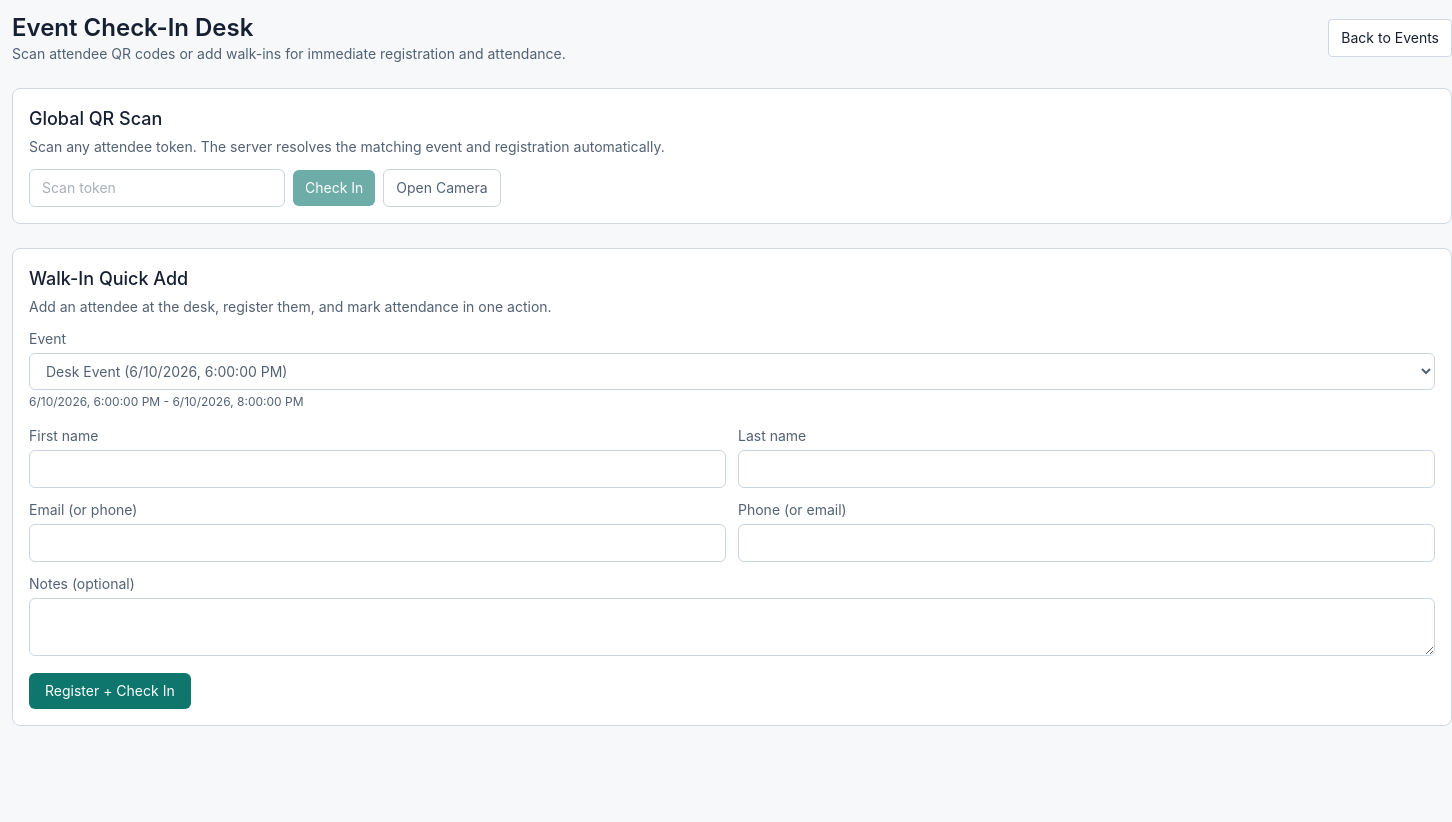
EventCheckInDeskPage › submits walk-in attendee
Expected: the heading "Walk-In Quick Add" is shown, [29,268,188,289]
Expected: the dropdown labelled "Event" shows "Desk Event (6/10/2026, 6:00:00 PM)", [29,353,1435,390]
Step 1. Type "Jamie" into the field labelled "First name" → (378, 469), box [29,450,726,488]
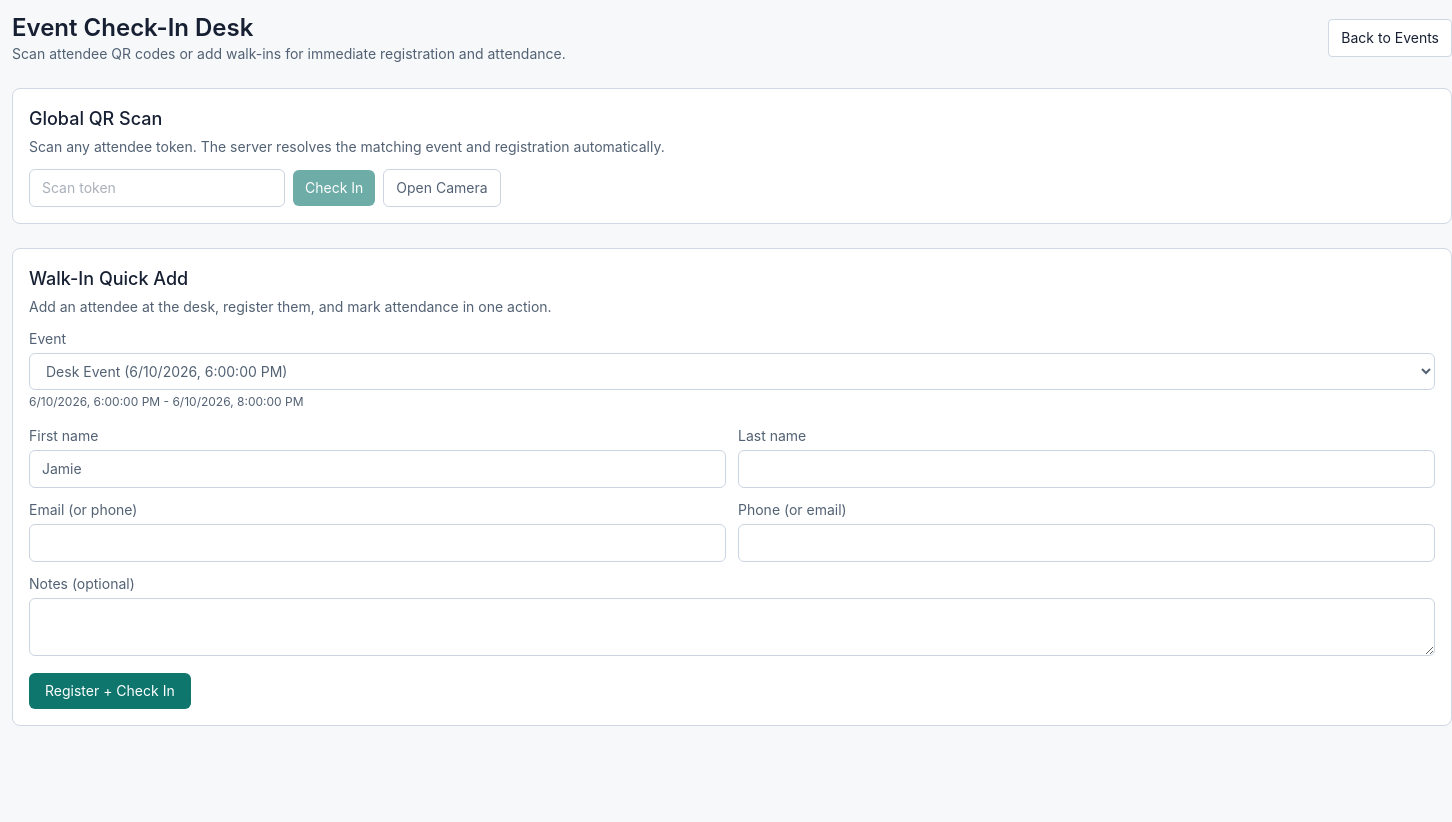
Step 2. Type "Visitor" into the field labelled "Last name" → (1086, 469), box [738,450,1435,488]
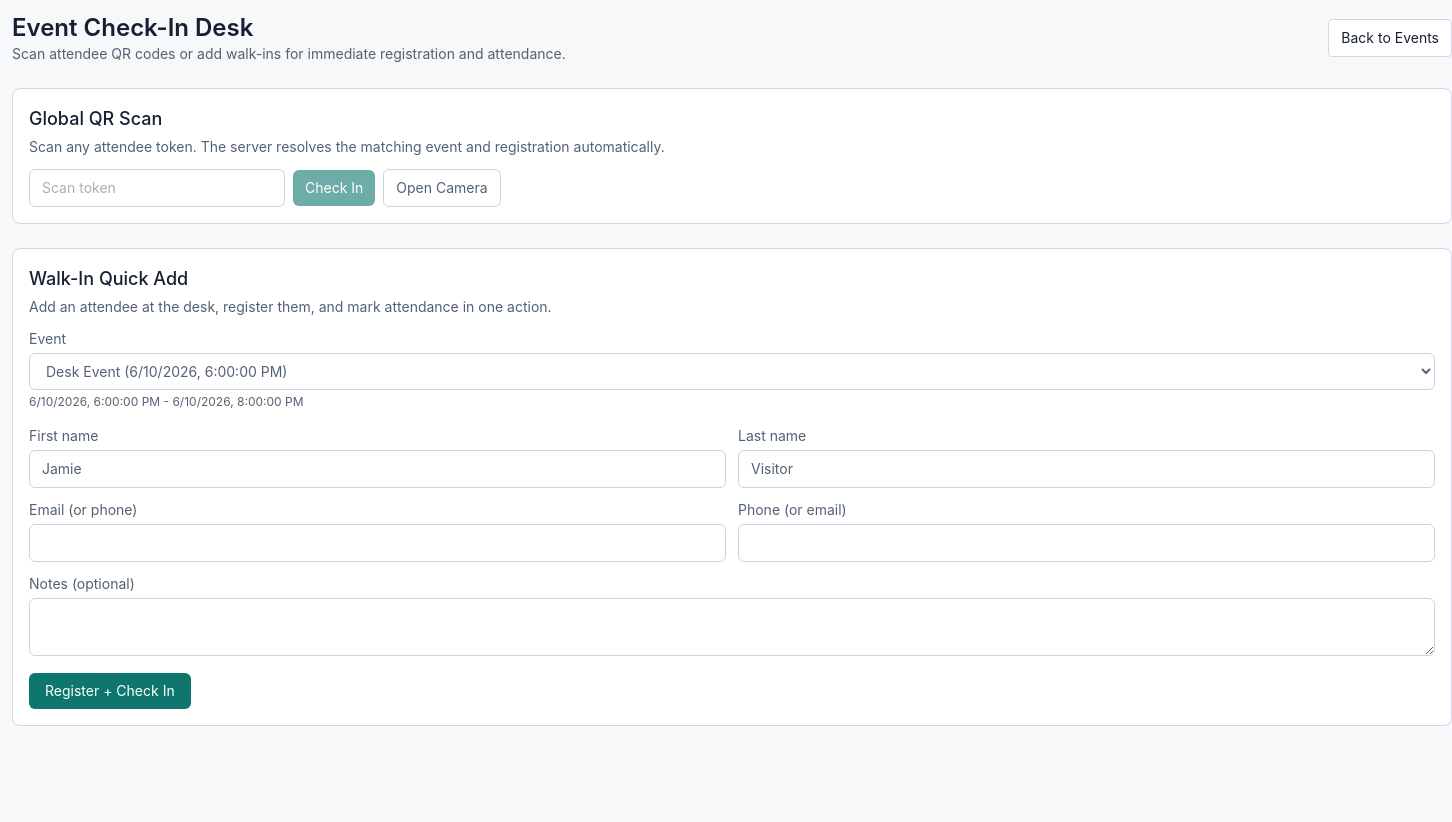
Step 3. Type "jamie@example.com" into the field labelled "Email (or phone)" → (378, 543), box [29,524,726,562]
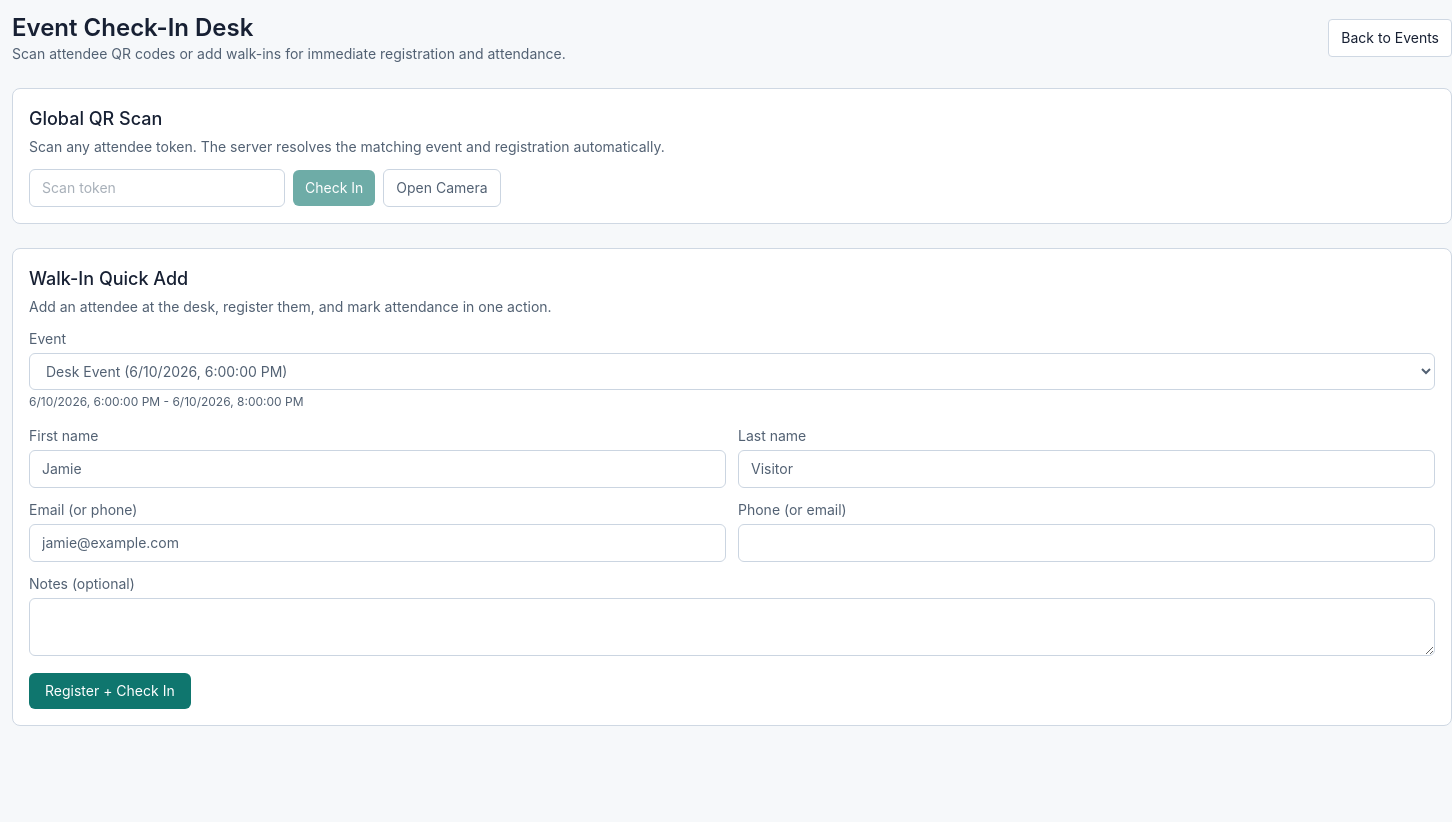
Step 4. Click the button "Register + Check In" → (110, 691), box [29,673,191,709]
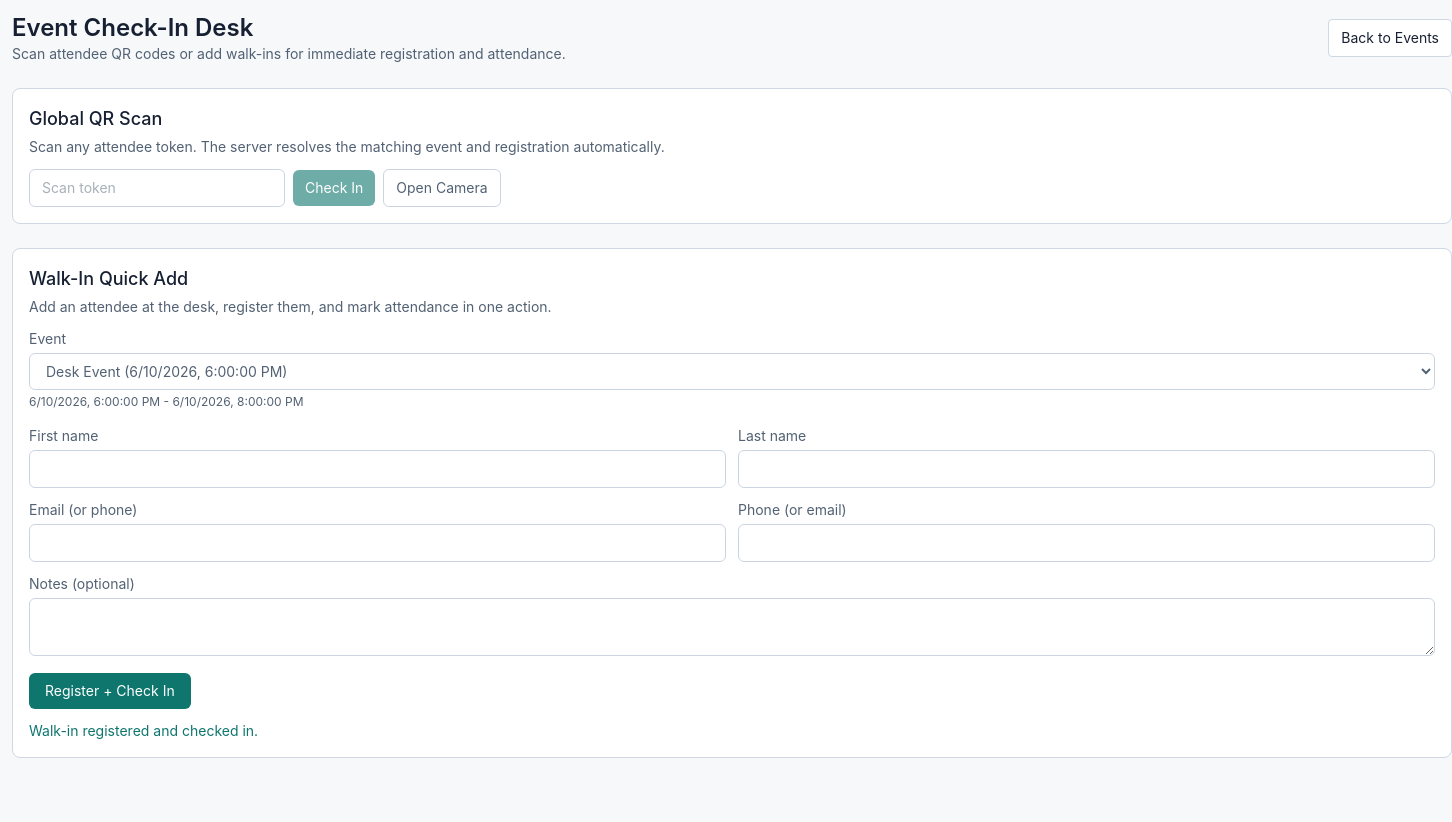
Expected: the text "Walk-in registered and checked in." is shown, [29,722,258,739]
